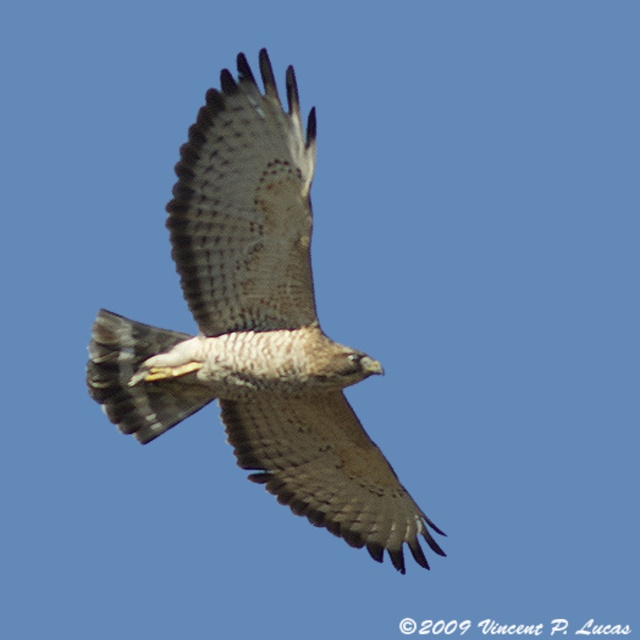Eagle: (86, 46, 447, 575)
